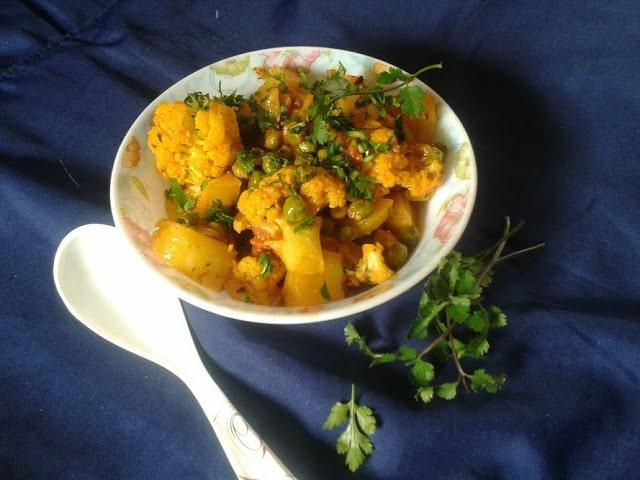AlooGobi: (148, 57, 448, 306)
